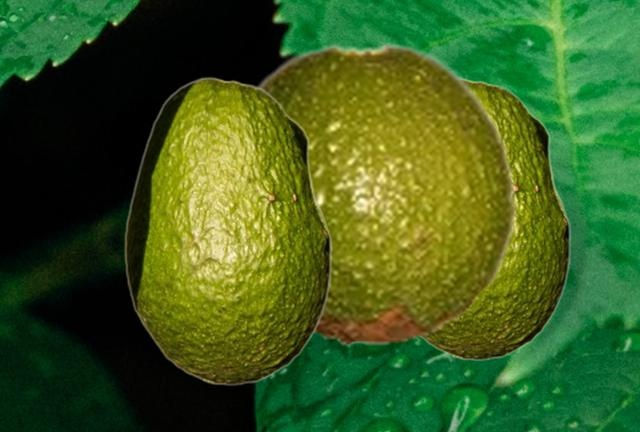avocado: (251, 42, 519, 346), (124, 76, 331, 385), (420, 77, 570, 360)
